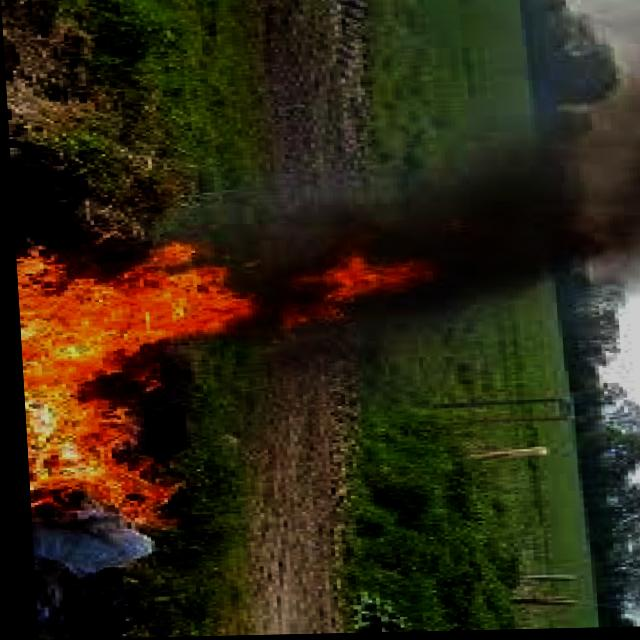helmet: (15, 229, 257, 540)
no_helmet: (172, 171, 640, 348)
